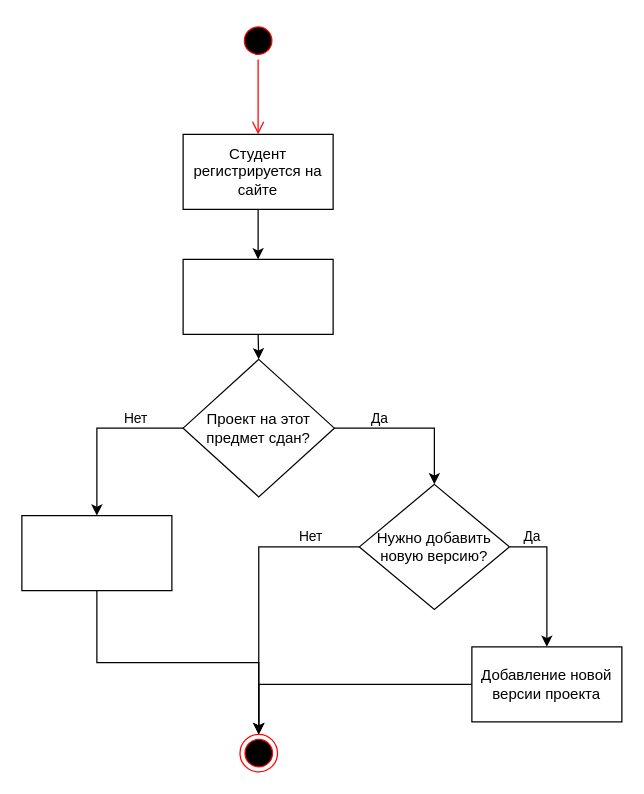
The diagram is 644 pixels wide and 794 high, and some of its shapes have lost their labels. The centre of each missing label's shape, as x and y in pixels:
"Выпирает предмет" belongs at [257,296].
"Загружает свой проект" belongs at [96,552].
